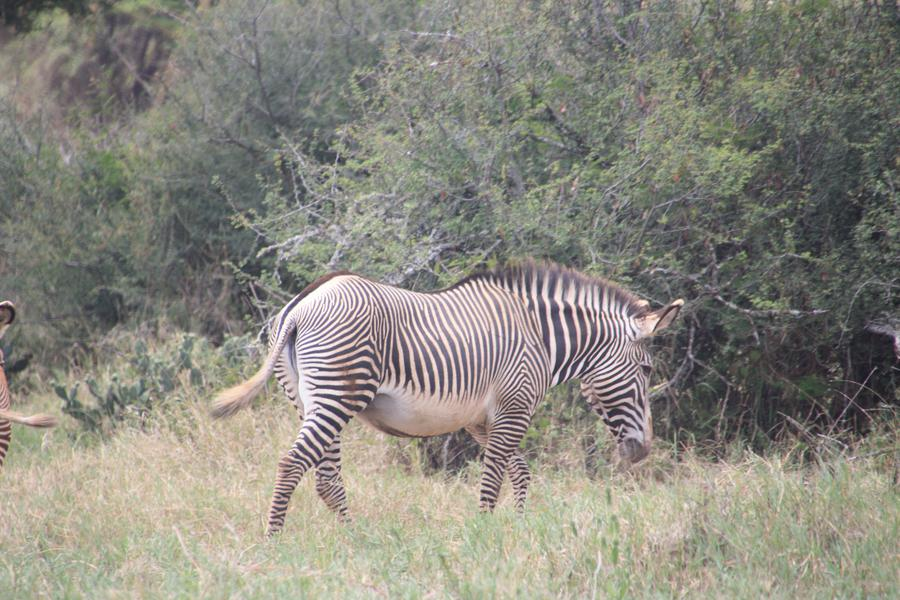zebra_grevys: (284, 258, 537, 421)
